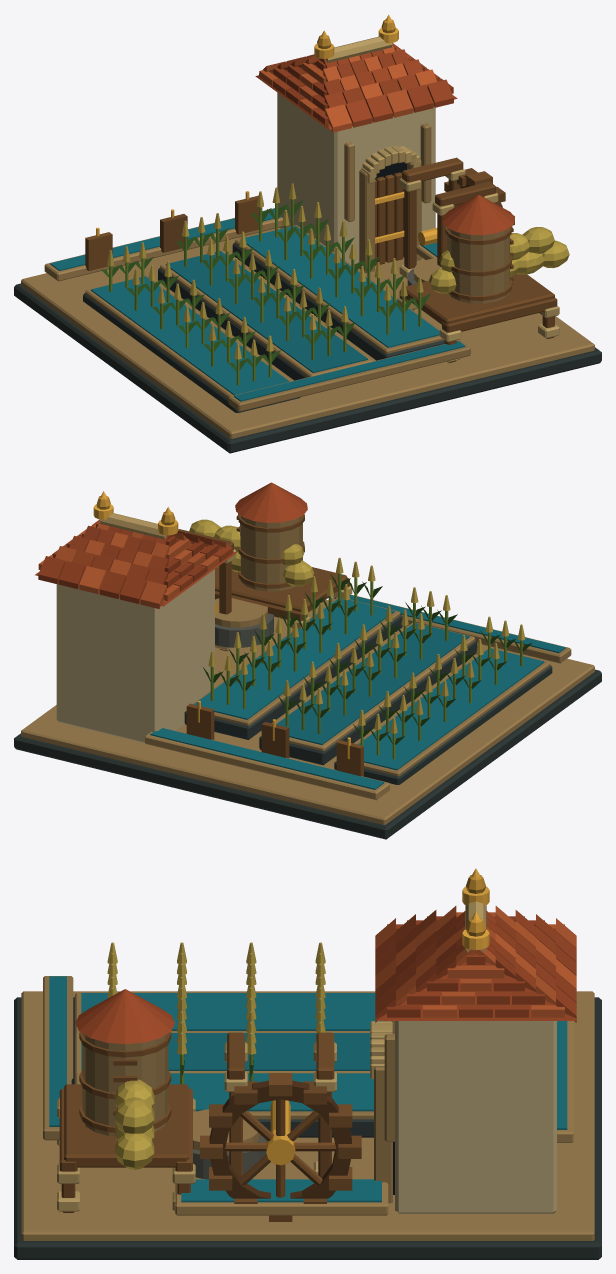
The picture shows the model from 3 angles, top to bottom: view 1: azimuth 30°, elevation 25°; view 2: azimuth 150°, elevation 25°; view 3: azimuth 270°, elevation 25°; orthographic projection. The views are drawn at different scales.
Visible parts, largest first — view 1: farm_8_structure, farm_8_metal; view 2: farm_8_structure, farm_8_metal; view 3: farm_8_structure, farm_8_metal.
Boxes of the visible parts, box(x1,y1,x2,y2) form: farm_8_structure: box(14, 19, 601, 453); farm_8_metal: box(96, 14, 437, 245); farm_8_structure: box(14, 482, 601, 839); farm_8_metal: box(93, 491, 350, 759); farm_8_structure: box(14, 875, 601, 1259); farm_8_metal: box(266, 868, 489, 1165).
Bounding box in the file's own units: 5.6 × 3.29 × 5.46.
